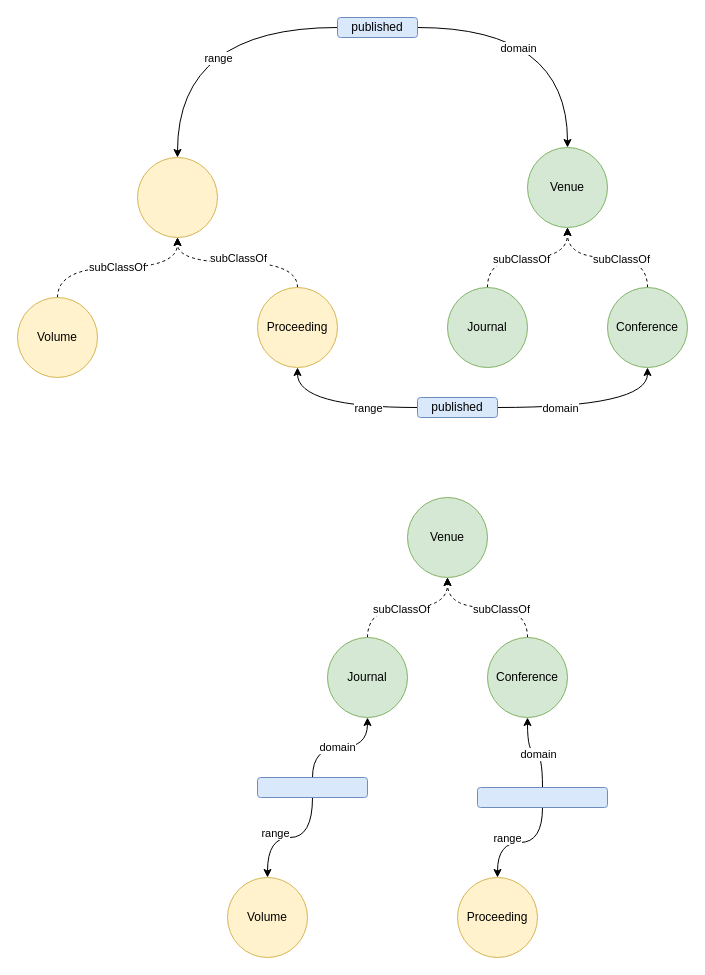
The diagram is 705 pixels wide and 975 high, and some of its shapes have lost their labels. Here are the shapes that lost their labels. From the top down, the box of each, then its label:
(136, 156, 218, 238): Colletion
(256, 776, 368, 798): publishedVolume
(476, 786, 608, 808): publishedProceeding
